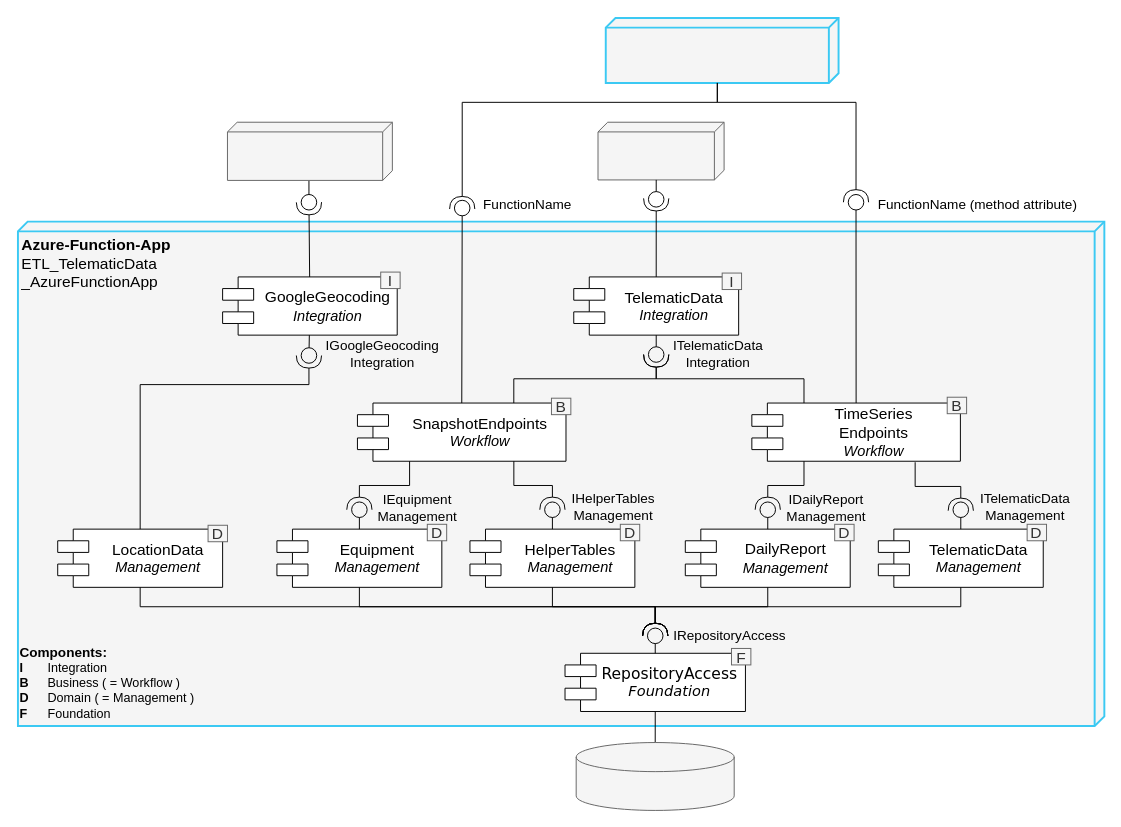
Some shapes in this 1121 by 827 pixel diagram are drawn without their labels. Here are the shapes that lost their labels. From the top down, the centre of each, then its label:
At (x=721, y=49): "Azure-Data-Factory Pipeline TelematicDataPipeline".
At (x=309, y=150): "REST-API Google Geocoding".
At (x=660, y=150): "REST-API Telematic data".
At (x=654, y=776): "SQL database".
